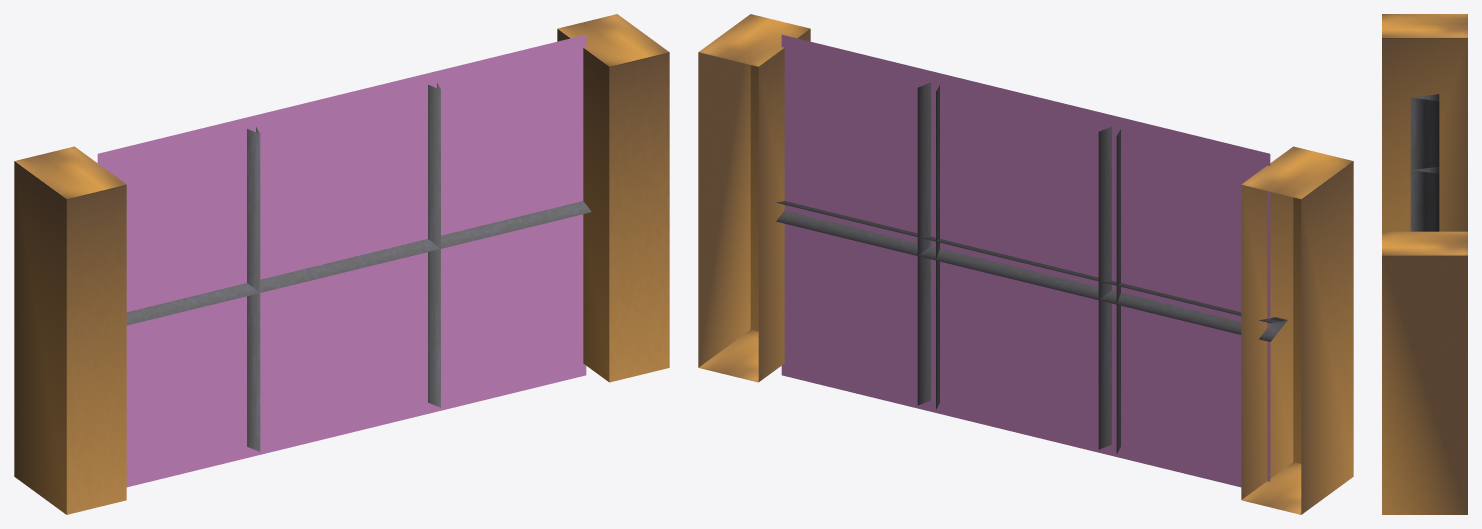
Rendered from VidroParede.fbx.
3 renders of one model, left to right at view 1: azimuth 30°, elevation 25°; view 2: azimuth 150°, elevation 25°; view 3: azimuth 270°, elevation 25°, orthographic. The views are drawn at different scales.
Visible parts, largest first — view 1: Vidro, Parede, GradeVidro; view 2: Vidro, Parede, GradeVidro; view 3: Parede, GradeVidro.
Part boxes in pixels (box(x1,y1,x2,y2)): Vidro: box(97, 34, 586, 487); Parede: box(14, 14, 669, 514); GradeVidro: box(126, 83, 591, 451); Vidro: box(781, 34, 1270, 487); Parede: box(698, 14, 1353, 514); GradeVidro: box(776, 82, 1287, 453); Parede: box(1382, 14, 1467, 514); GradeVidro: box(1410, 94, 1439, 231).
Size of the model in its own units: 200 by 108 by 30.
